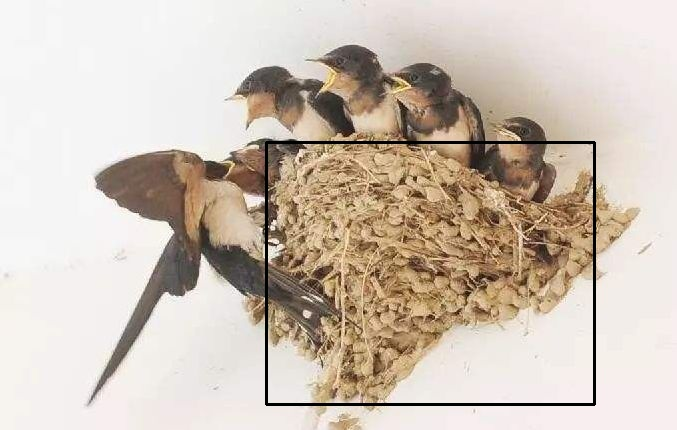bird-nest: (246, 133, 643, 414)
